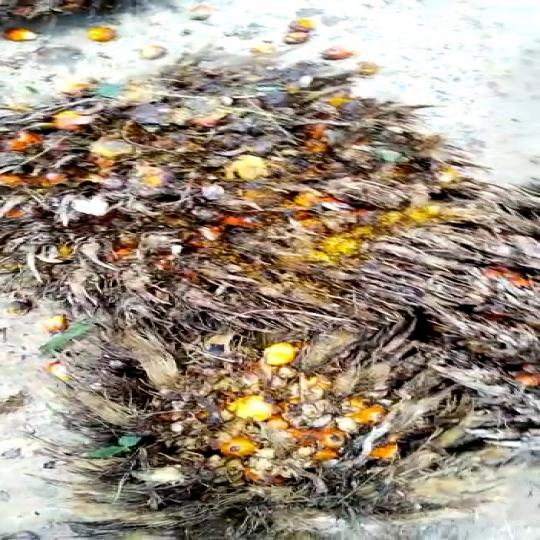terlalu masak: (0, 57, 476, 327), (46, 295, 460, 537)
